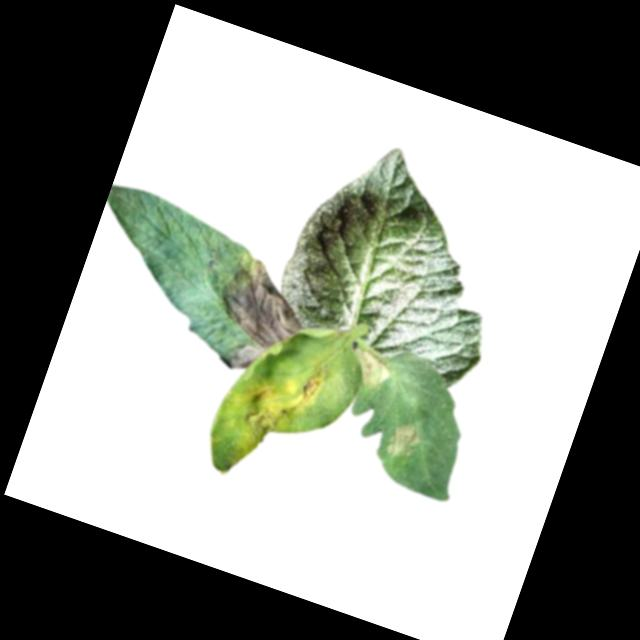Late_blight: (198, 248, 318, 386), (219, 377, 296, 453), (345, 345, 397, 392), (383, 416, 427, 464), (293, 359, 327, 409), (220, 441, 247, 473)
healthy: (264, 125, 538, 396)
